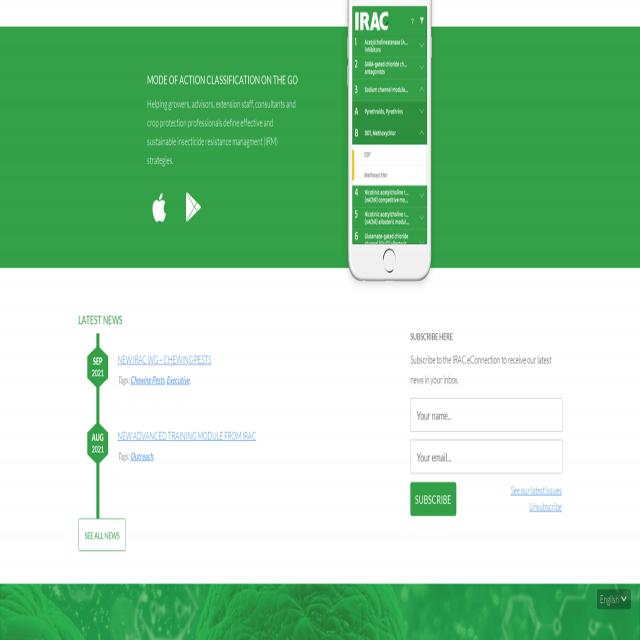button: (342, 0, 438, 293), (78, 518, 126, 551), (410, 482, 456, 516), (147, 187, 171, 230), (182, 187, 206, 230)
field: (410, 398, 562, 432), (410, 440, 562, 474)
